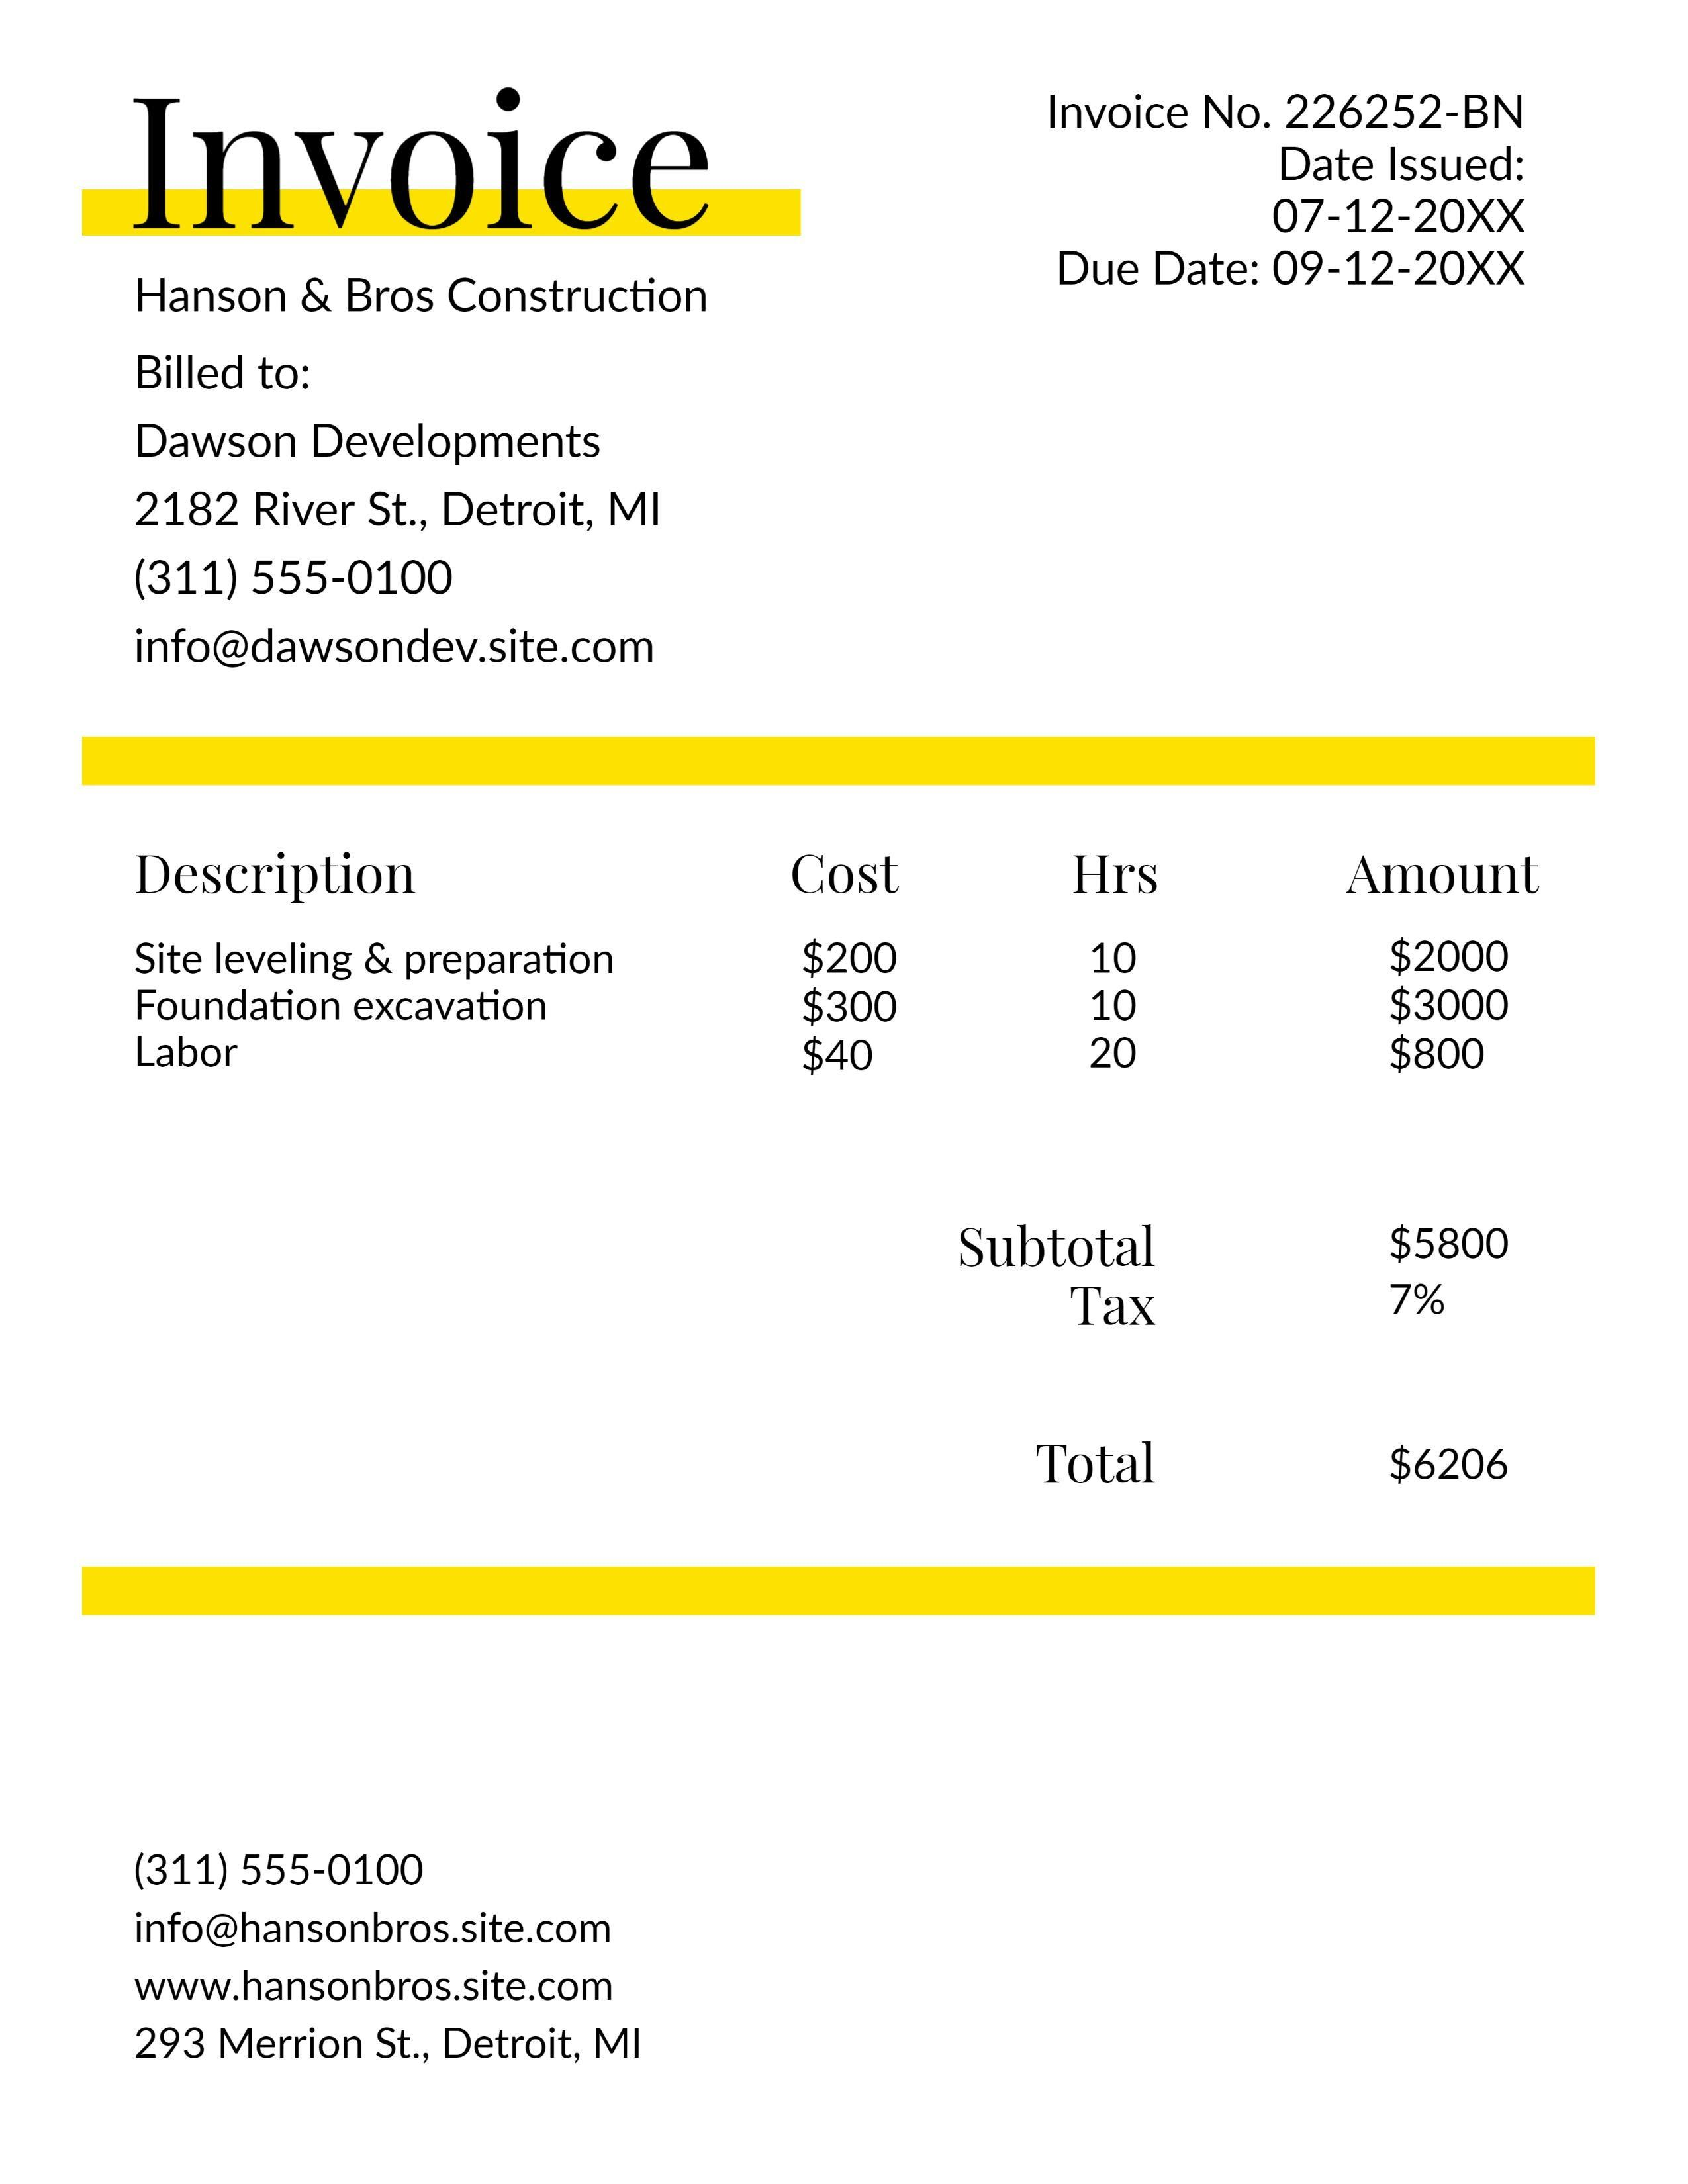ROI: (103, 837, 1569, 1081), (129, 344, 692, 684), (940, 1207, 1543, 1500), (110, 1837, 683, 2101), (1030, 80, 1550, 314), (122, 259, 748, 337)
